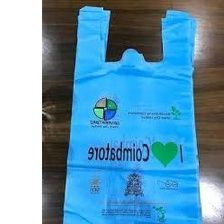plastic_bag: (63, 3, 211, 224)
